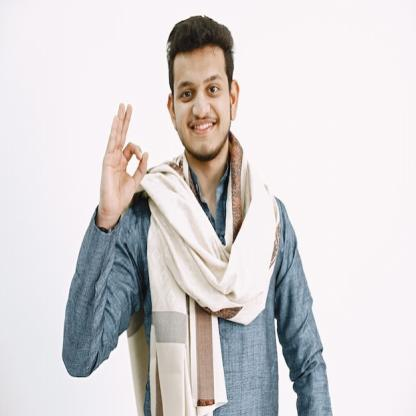ok: (99, 97, 149, 232)
